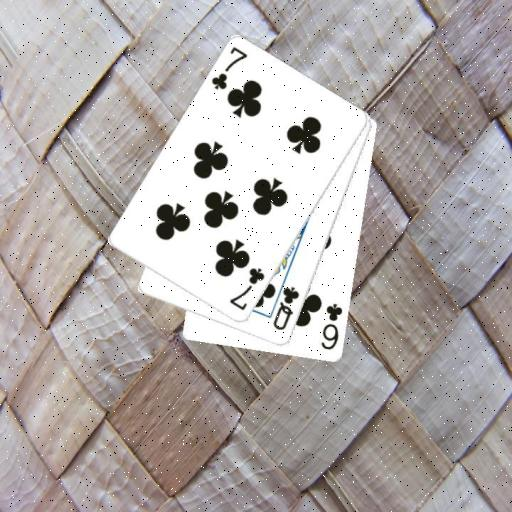6C: (318, 301, 344, 352)
7C: (227, 265, 267, 313), (209, 44, 249, 92)
QC: (269, 283, 301, 332)
